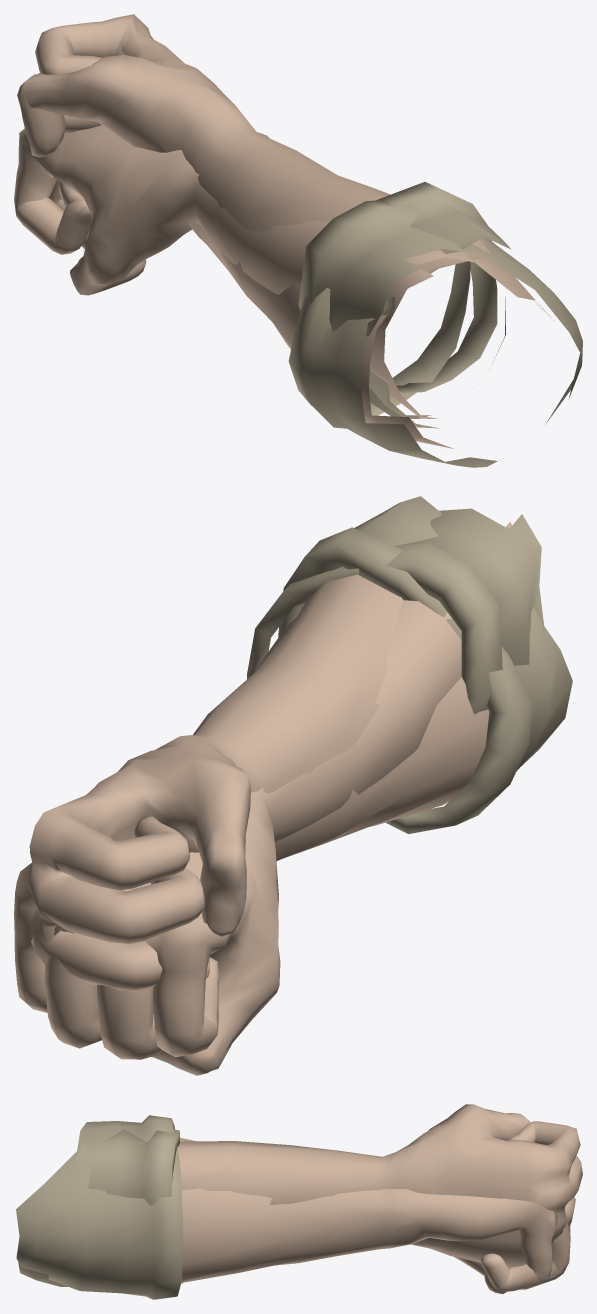
The model's file is arms.glb.
3 views of the same model, one above another, from view 1: azimuth 30°, elevation 25°; view 2: azimuth 150°, elevation 25°; view 3: azimuth 270°, elevation 25° (orthographic). The views are drawn at different scales.
Visible parts, largest first — view 1: grip, fist; view 2: grip, fist; view 3: fist, grip.
Boxes of the visible parts, bbox=[...] form: grip: bbox=[17, 14, 511, 467]; fist: bbox=[14, 125, 582, 428]; grip: bbox=[28, 496, 572, 1014]; fist: bbox=[14, 508, 544, 1075]; fist: bbox=[16, 1115, 570, 1299]; grip: bbox=[18, 1104, 582, 1286].
Bounding box in the file's own units: 0.1445 × 0.148 × 0.423.
